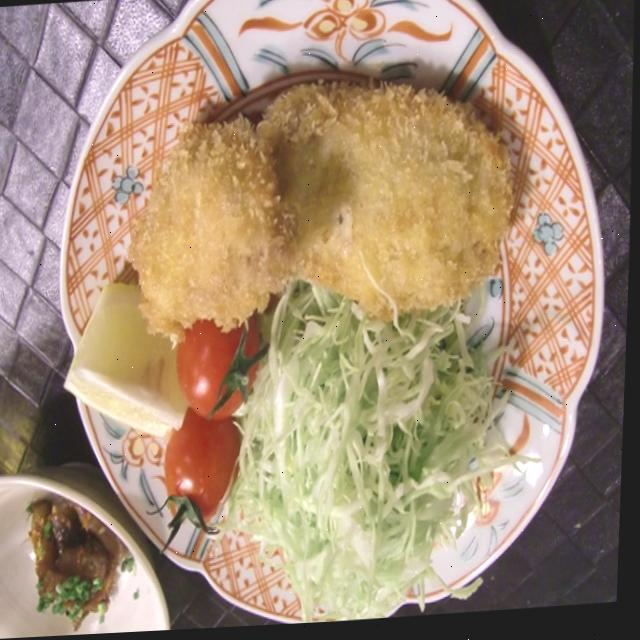牛肉菜式: (48, 7, 592, 637)
